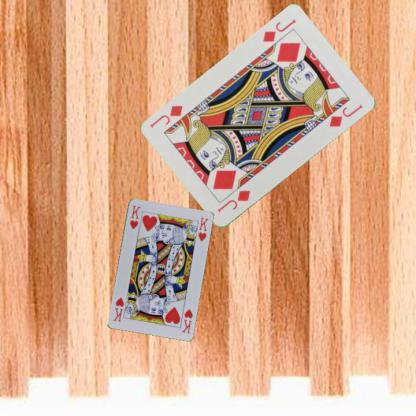Jd: (259, 17, 297, 44), (214, 188, 251, 214)
Kh: (179, 306, 194, 335), (127, 203, 142, 230)
